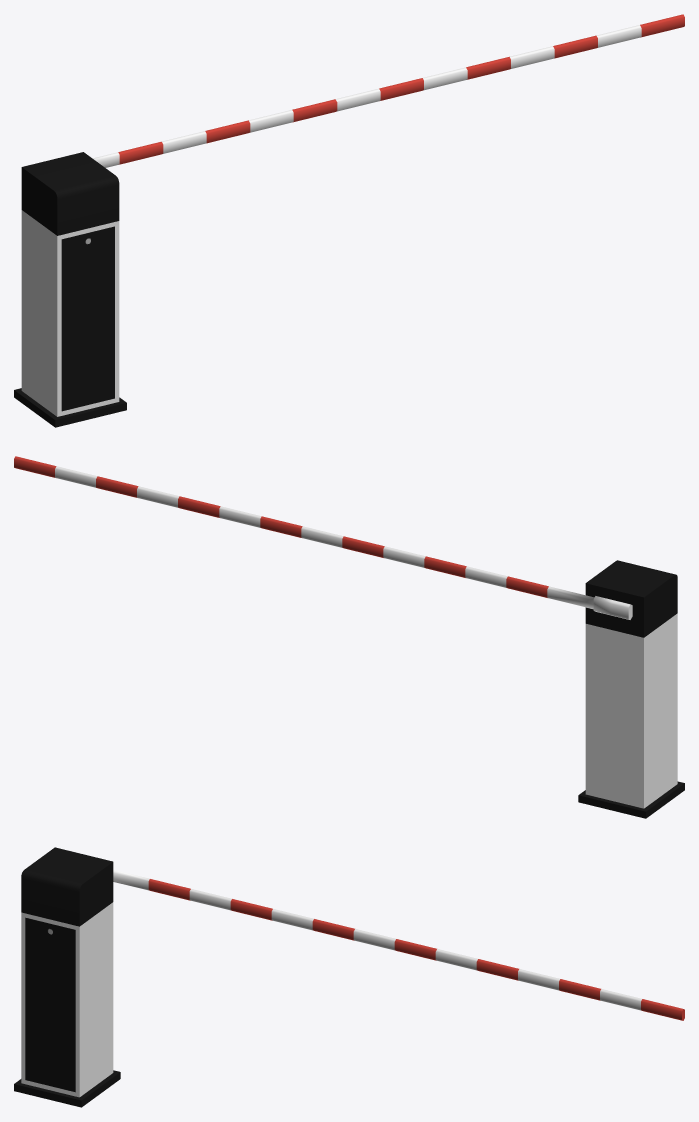
File: parkingbreaker4.fbx
The picture shows the model from 3 angles, top to bottom: view 1: azimuth 30°, elevation 25°; view 2: azimuth 150°, elevation 25°; view 3: azimuth 330°, elevation 25°; orthographic projection. The views are drawn at different scales.
Parts seen in each view (by area): view 1: Box003, Cylinder001, Object001; view 2: Box003, Cylinder001, Object001; view 3: Box003, Cylinder001, Object001.
Part boxes in pixels (box(x1,y1,x2,y2)): Box003: box(14, 210, 126, 427); Cylinder001: box(92, 14, 684, 167); Object001: box(21, 152, 119, 235); Box003: box(578, 613, 684, 818); Cylinder001: box(14, 456, 632, 619); Object001: box(585, 560, 677, 637); Box003: box(14, 902, 120, 1107); Cylinder001: box(113, 870, 684, 1020); Object001: box(21, 847, 113, 926).
Size of the model in its own units: 327 by 36.15 by 108.
Materials: 2 (2 with a texture image).
